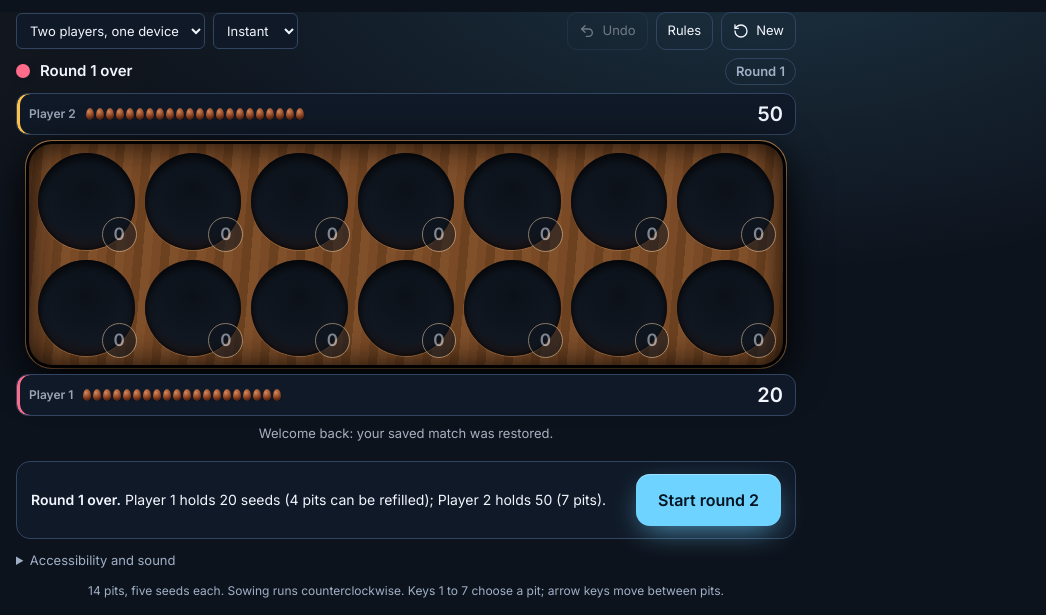
it: Pallanguzhi › between rounds the next round is started by the players, refills pits and marks piggy pits
Click the button "Start round 2".
click(708, 500)  # box [636, 474, 781, 526]
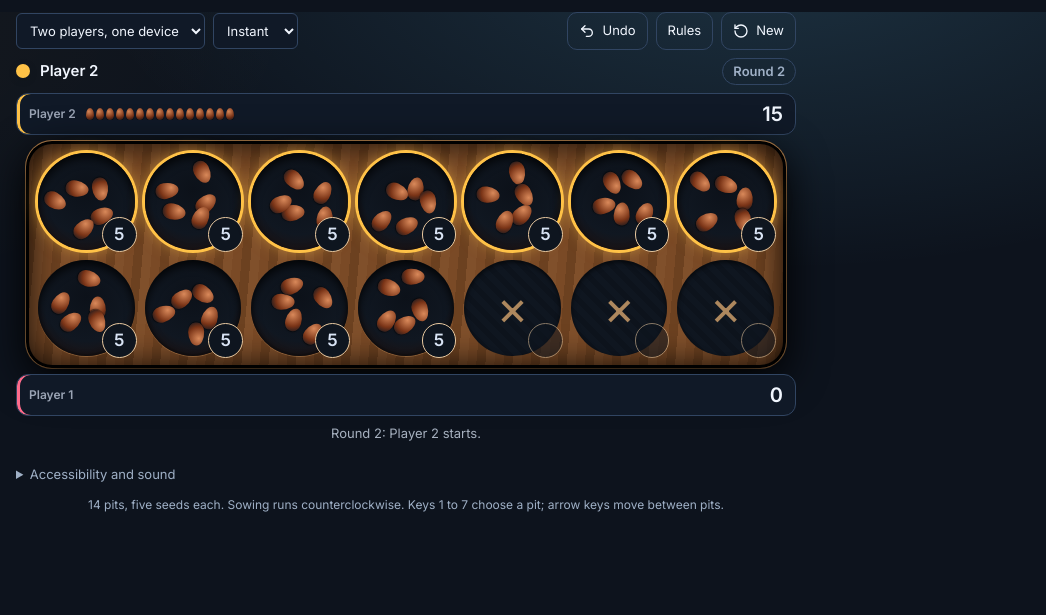
Expected: the text "Round 2" is shown, [722, 58, 796, 85]
Expected: the text with test id "store-1" reads "15", [762, 102, 783, 126]
